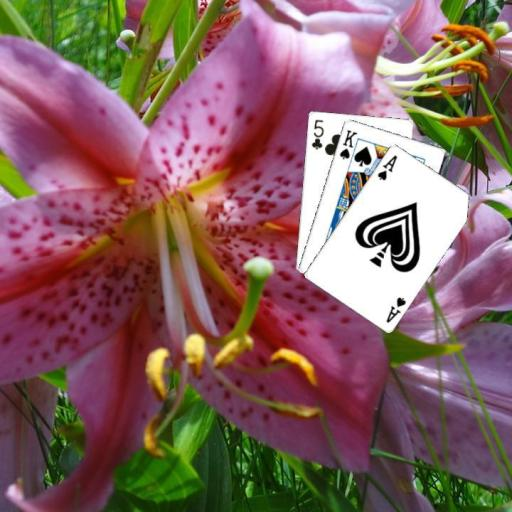5C: (309, 116, 325, 150)
AS: (383, 293, 408, 324), (374, 152, 398, 182)
KS: (337, 126, 359, 161)
